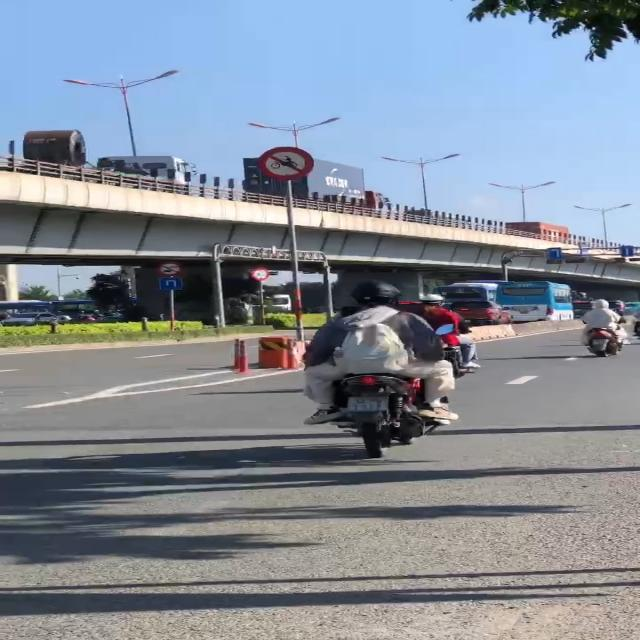Bien bao cam xe may: (256, 144, 325, 182)
